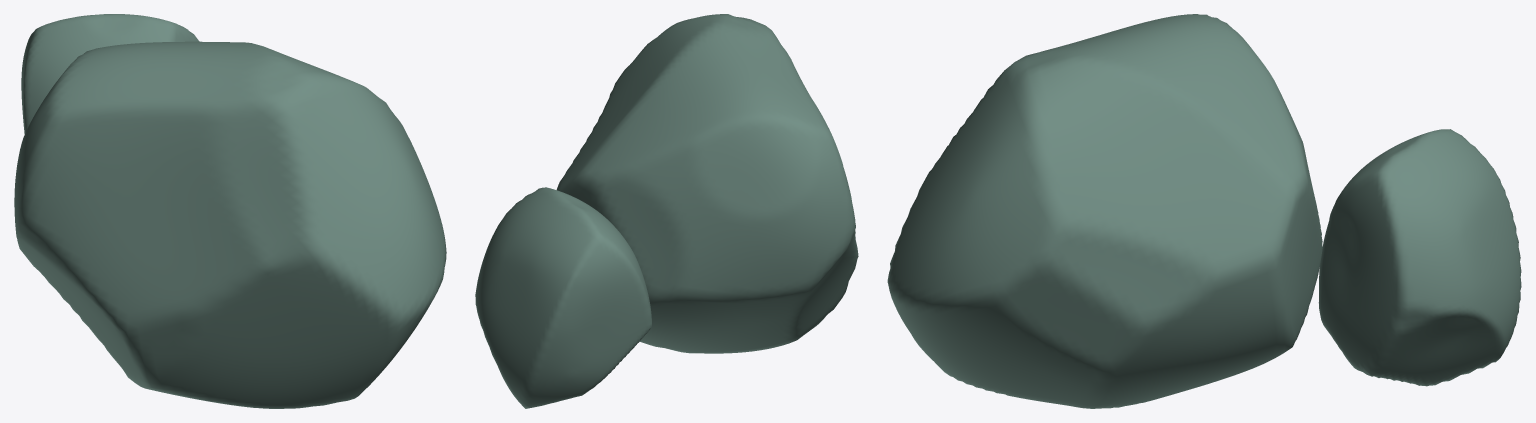
3 views of the same model, side by side, from view 1: azimuth 30°, elevation 25°; view 2: azimuth 150°, elevation 25°; view 3: azimuth 270°, elevation 25° (orthographic). The views are drawn at different scales.
Parts seen in each view (by area): view 1: Cube.001, Cube; view 2: Cube.001, Cube; view 3: Cube.001, Cube.
Part boxes in pixels (left/top/right/bottom): Cube.001: left=14, top=41, right=446, bottom=408; Cube: left=21, top=14, right=199, bottom=133; Cube.001: left=556, top=14, right=858, bottom=353; Cube: left=475, top=187, right=651, bottom=408; Cube.001: left=887, top=14, right=1322, bottom=408; Cube: left=1318, top=129, right=1521, bottom=386.
Bounding box in the file's own units: 2.46 × 2.32 × 3.92.
